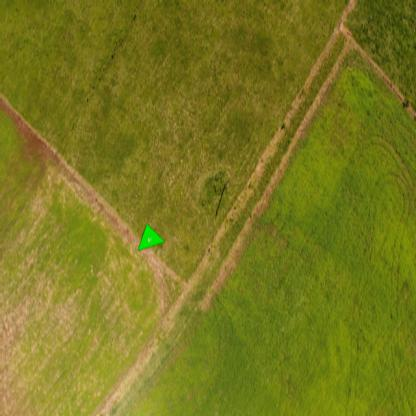triangle: (136, 222, 166, 254)
